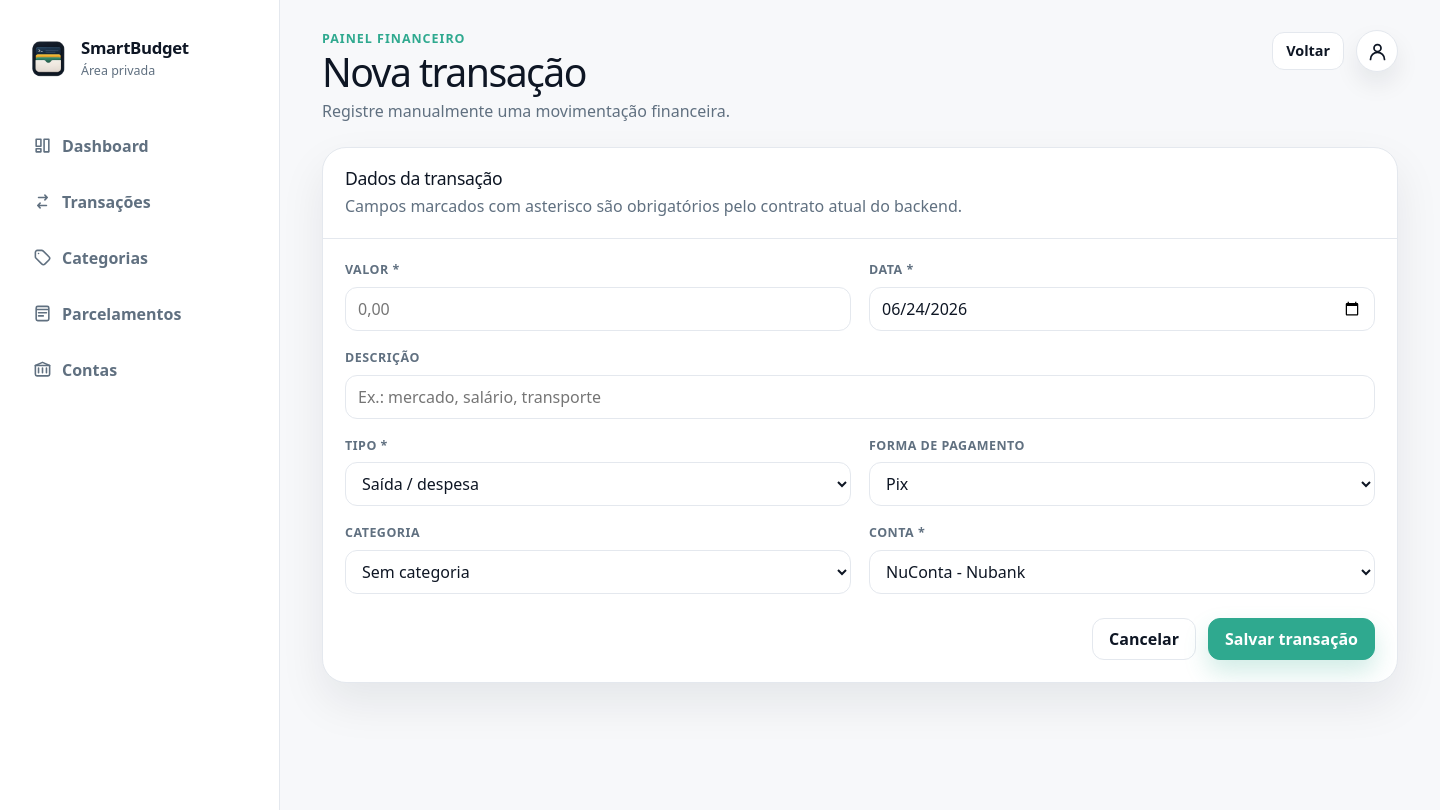
Página NovaTransacao › deve exibir erro se o valor inserido for igual ou menor a zero
The image size is (1440, 810).
Type "-5" into the number field labelled "Valor *" at (598, 309), box [345,287,851,331]
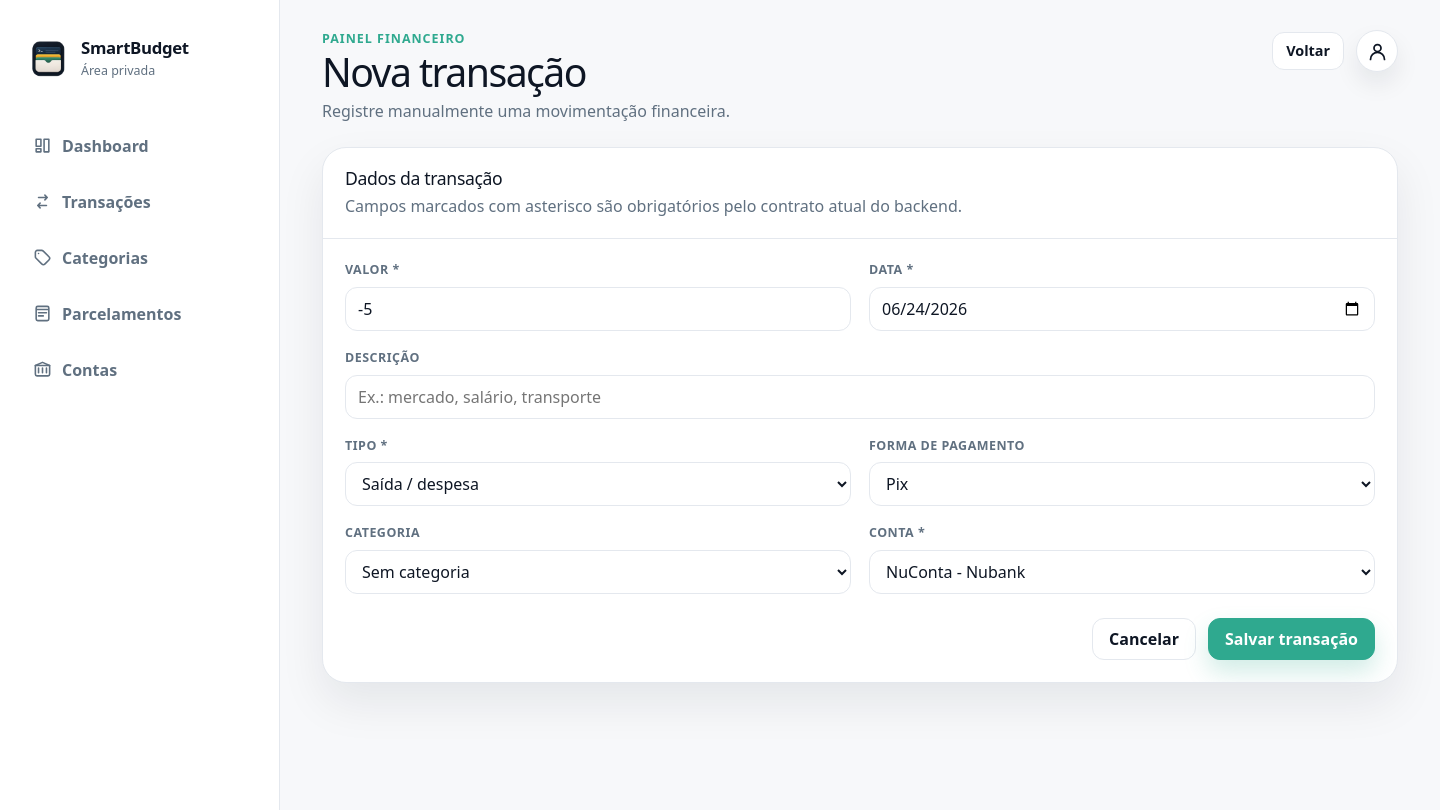
Click the button "Salvar transação" at (1292, 639), box [1208,618,1375,660]
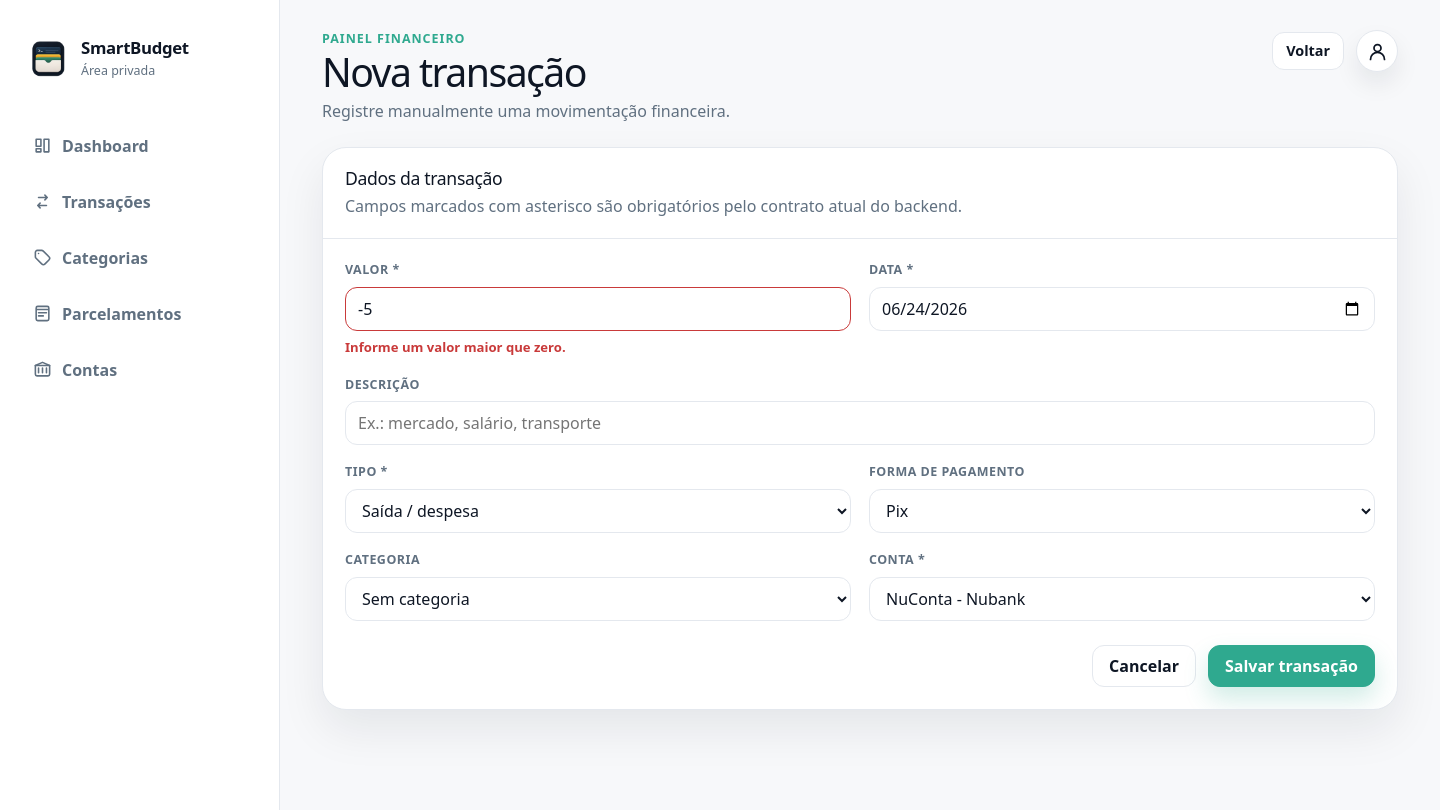
Expected: the text "Informe um valor maior que zero." is shown, [345,338,566,356]
